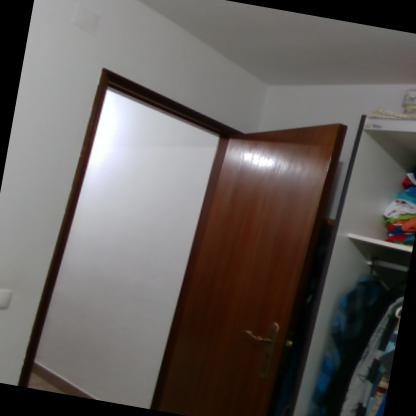open: (26, 49, 355, 415)
